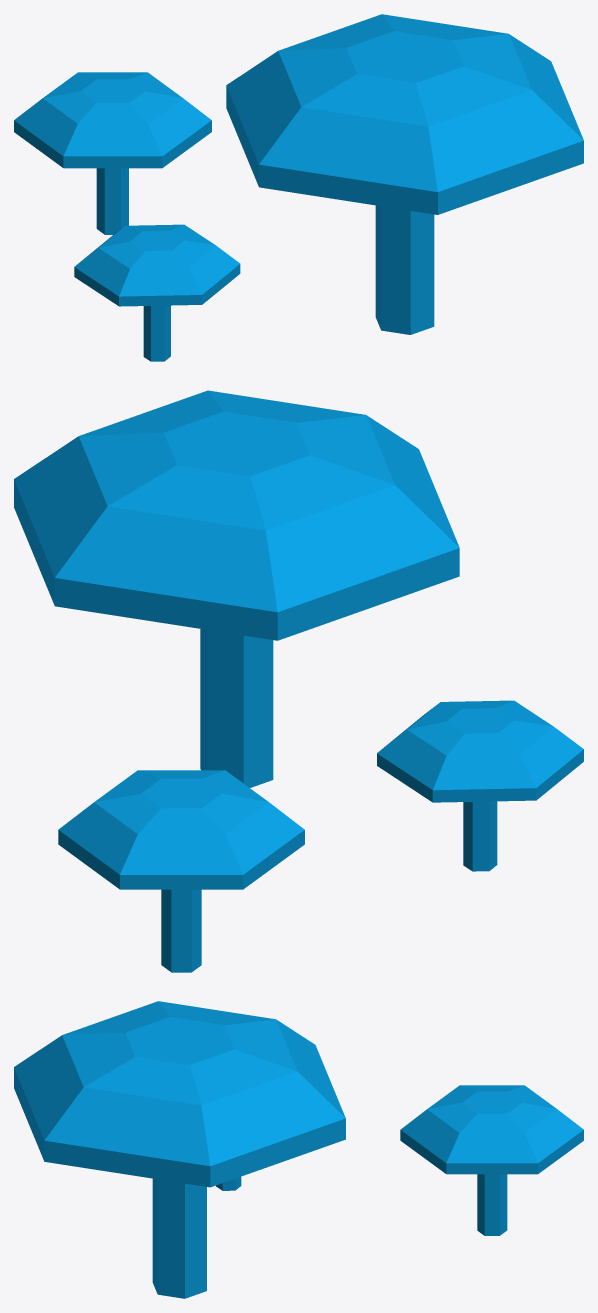
File: Garden_GlowShroom04.fbx
3 renders of one model, top to bottom at view 1: azimuth 30°, elevation 25°; view 2: azimuth 150°, elevation 25°; view 3: azimuth 270°, elevation 25°, orthographic. The views are drawn at different scales.
Parts seen in each view (by area): view 1: Cylinder.182; view 2: Cylinder.182; view 3: Cylinder.182.
Boxes of the visible parts, <box> form: Cylinder.182: <box>14,14,583,361</box>; Cylinder.182: <box>14,390,583,972</box>; Cylinder.182: <box>14,1001,583,1298</box>.
Bounding box in the file's own units: 17.18 × 9.71 × 20.39.
